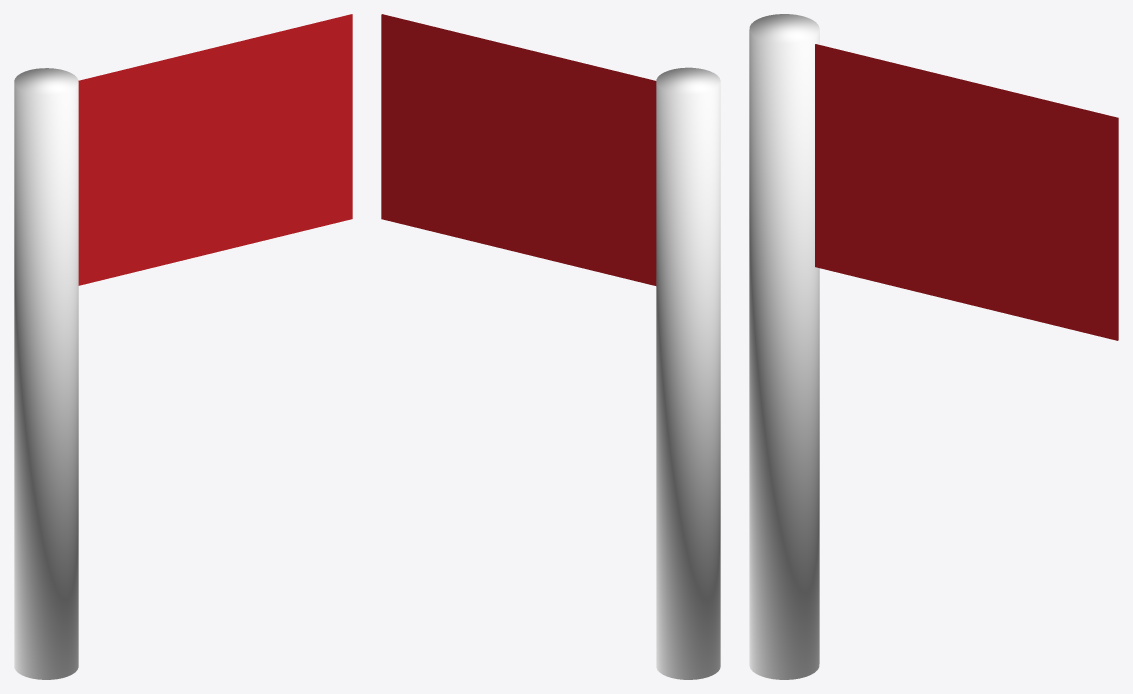
File: Goal.fbx
3 views of the same model, side by side, from view 1: azimuth 30°, elevation 25°; view 2: azimuth 150°, elevation 25°; view 3: azimuth 330°, elevation 25° (orthographic). The views are drawn at different scales.
Parts seen in each view (by area): view 1: Cylinder; view 2: Cylinder; view 3: Cylinder.
Part boxes in pixels (left/top/right/bottom): Cylinder: left=14, top=14, right=352, bottom=679; Cylinder: left=381, top=14, right=720, bottom=679; Cylinder: left=749, top=14, right=1118, bottom=679.
Bounding box in the file's own units: 1.44 × 2.4 × 0.24.
Materials: 2 (2 with a texture image).
